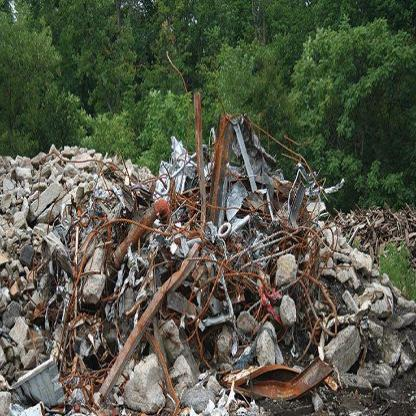rebar: (55, 159, 345, 409)
